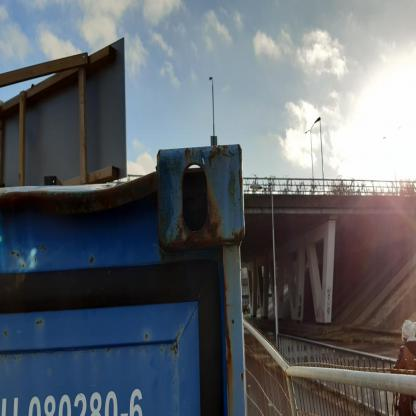CornerCasting: (154, 138, 248, 259)
